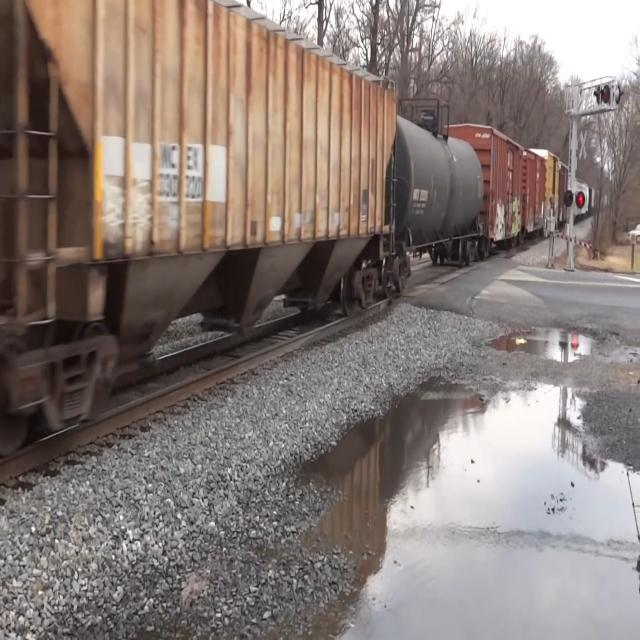hopper: (0, 0, 397, 447)
tank: (390, 102, 488, 279)
